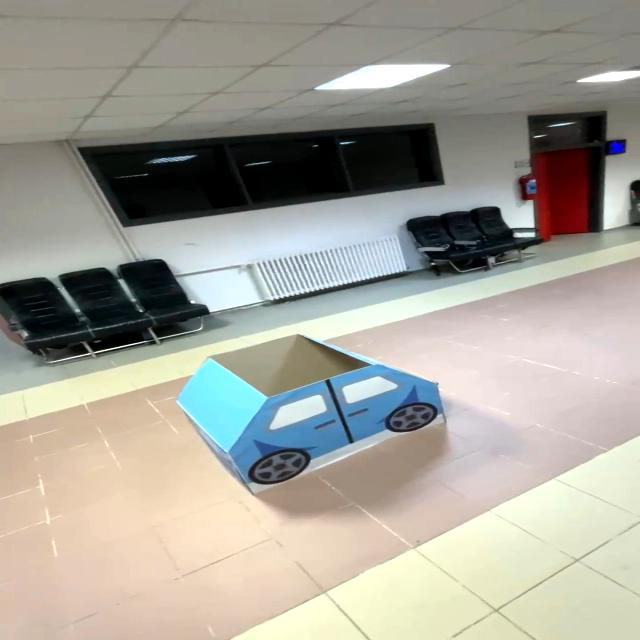blue_car: (149, 326, 525, 502)
